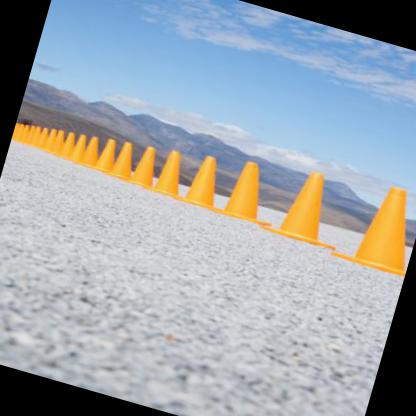cone: (329, 175, 415, 280), (258, 162, 354, 252), (210, 155, 284, 228), (172, 150, 233, 212), (144, 144, 194, 201), (124, 140, 167, 192), (103, 136, 141, 181)
